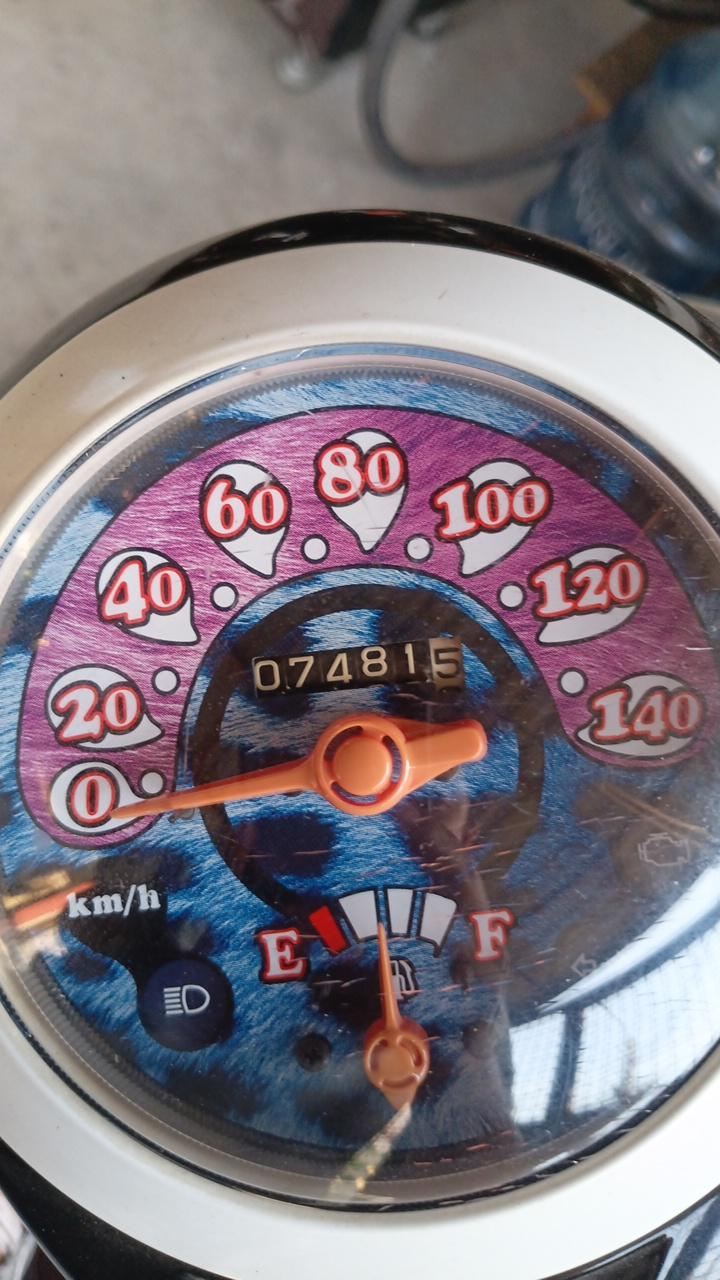0: (253, 660, 281, 692)
1: (402, 641, 418, 676)
4: (325, 652, 352, 686)
5: (433, 645, 461, 680)
7: (287, 655, 314, 689)
8: (360, 645, 388, 678)
odometer: (248, 634, 467, 704)
